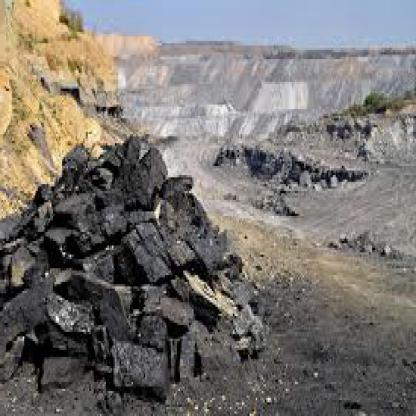Sedimentary_coal: (129, 214, 174, 282), (113, 339, 171, 391), (124, 138, 171, 196), (47, 288, 97, 330), (56, 191, 97, 234), (44, 225, 80, 259)
